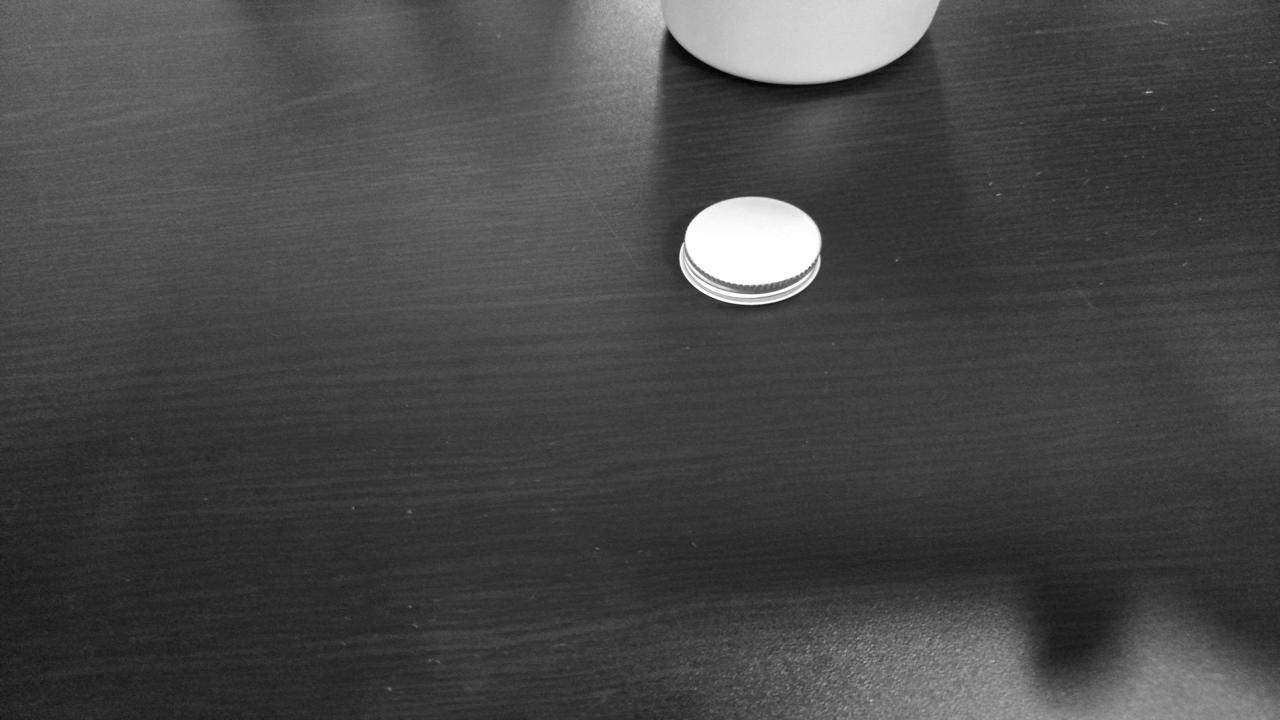bottle_cap: (683, 198, 821, 308)
